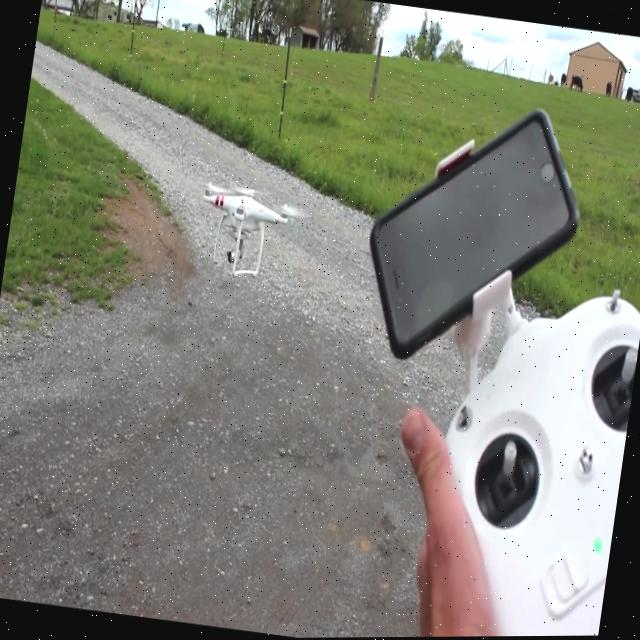drone: (190, 176, 296, 284)
